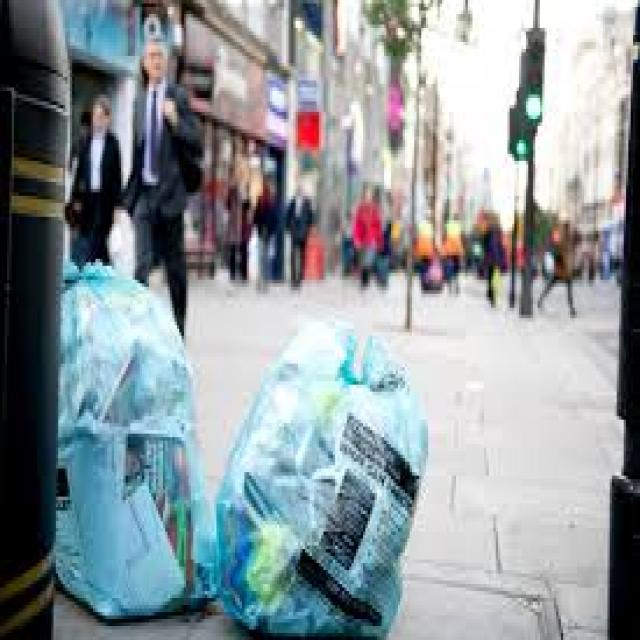plastic_bag: (217, 340, 434, 638), (57, 281, 201, 596)
